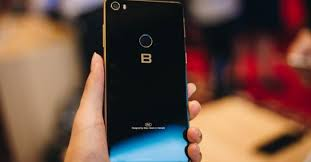bphone: (98, 1, 194, 160)
